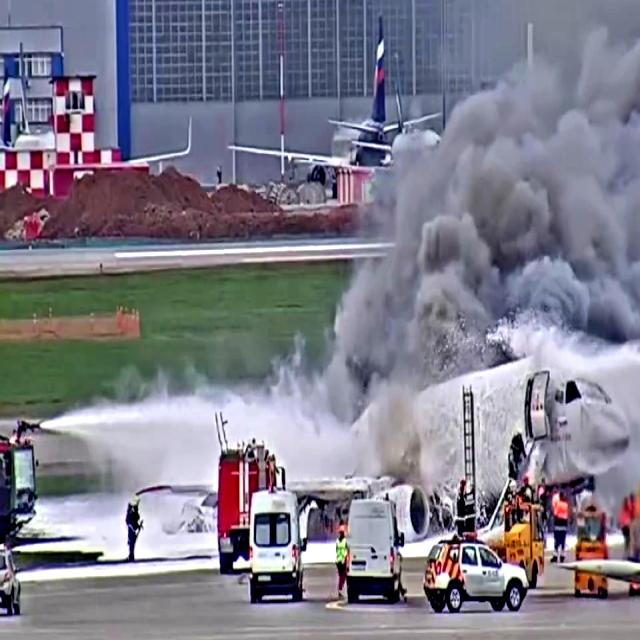smoke: (458, 0, 640, 336), (346, 96, 474, 390)
